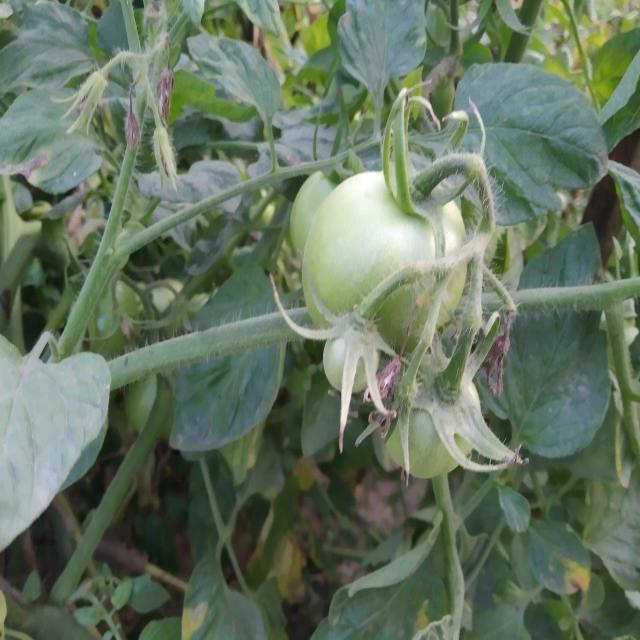Unripe: (302, 170, 466, 342)
